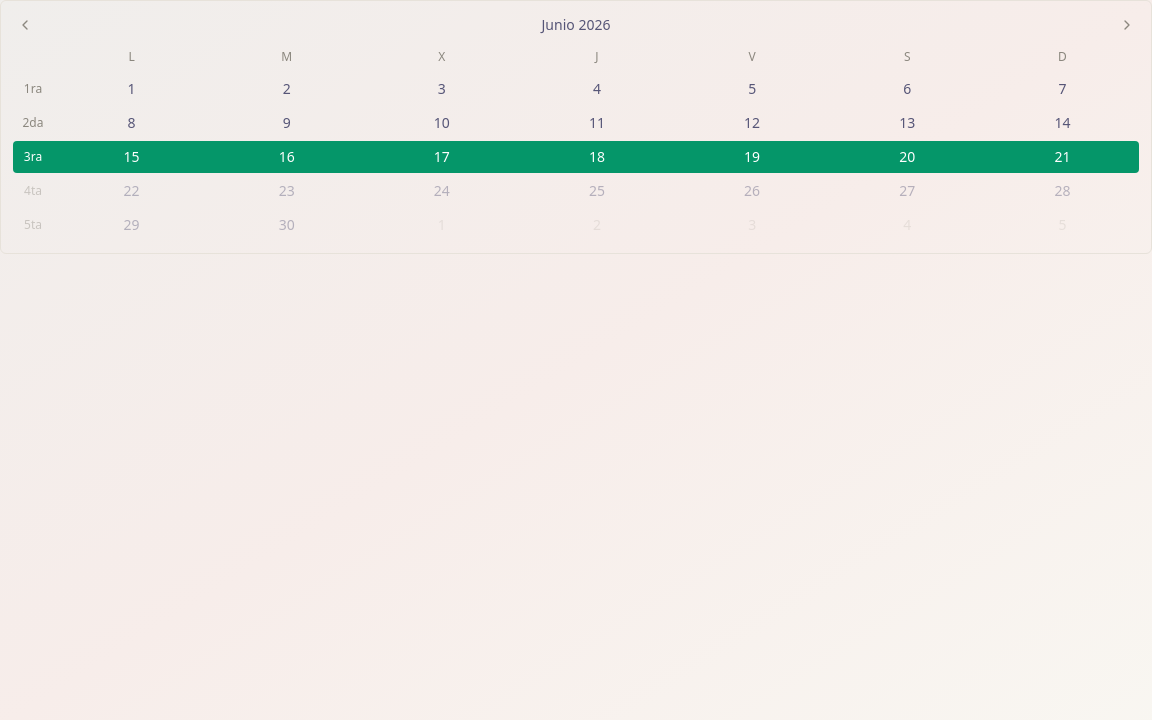
Test: WeekCalendar › prev/next shift by year while in the months view
Click the button with test id "week-calendar-view-label".
click(576, 25)  # box top-left (37, 13), bottom-right (1115, 37)
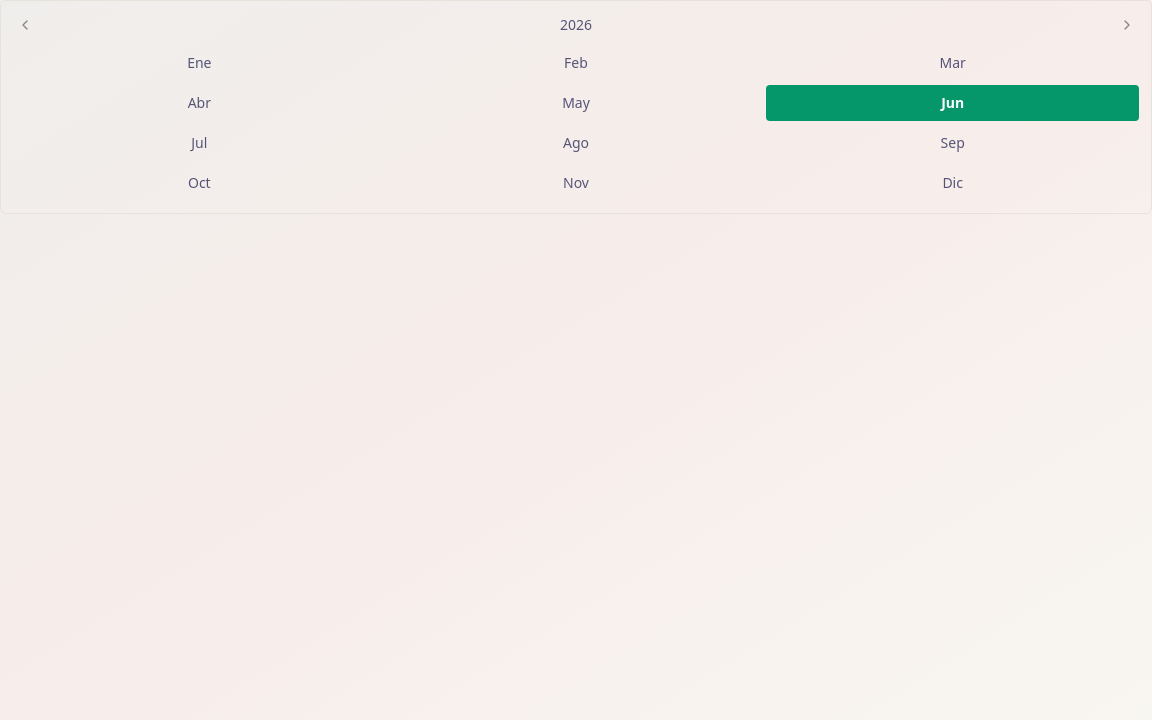
Result: the button with test id "week-calendar-view-label" reads "2026" at top-left (37, 13), bottom-right (1115, 37)
Click the button with test id "week-calendar-next".
click(1127, 25)  # box top-left (1115, 13), bottom-right (1139, 37)
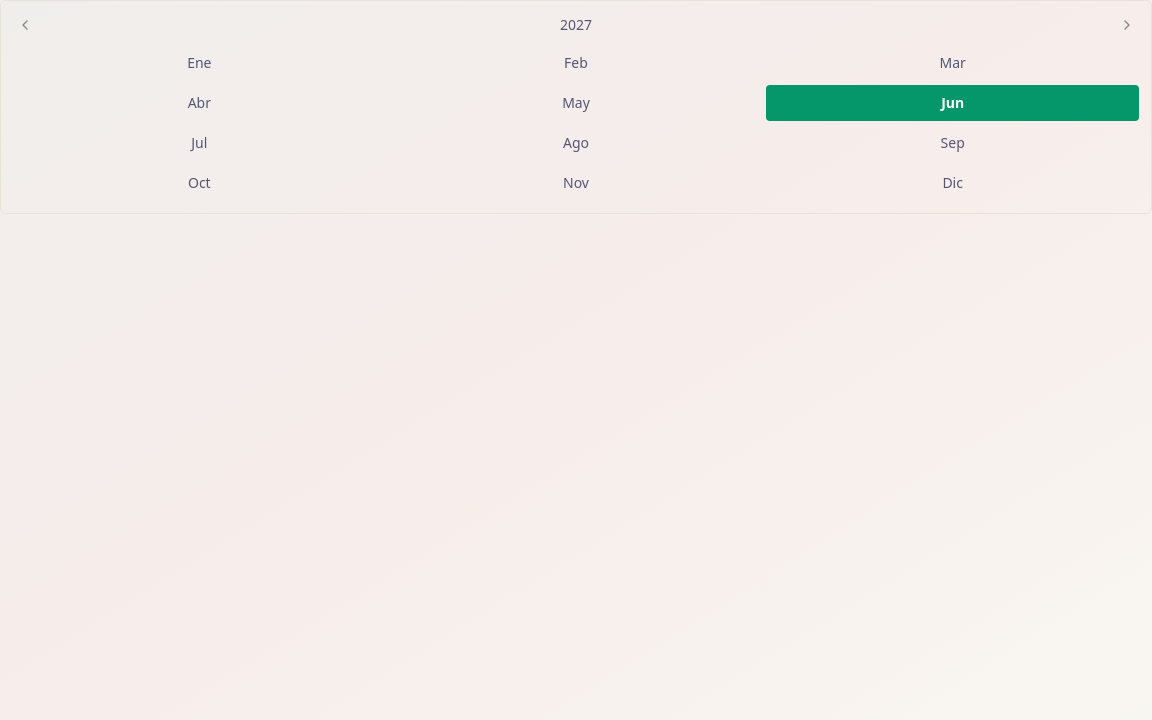
Result: the button with test id "week-calendar-view-label" reads "2027" at top-left (37, 13), bottom-right (1115, 37)
Click the button with test id "week-calendar-prev".
click(25, 25)  # box top-left (13, 13), bottom-right (37, 37)
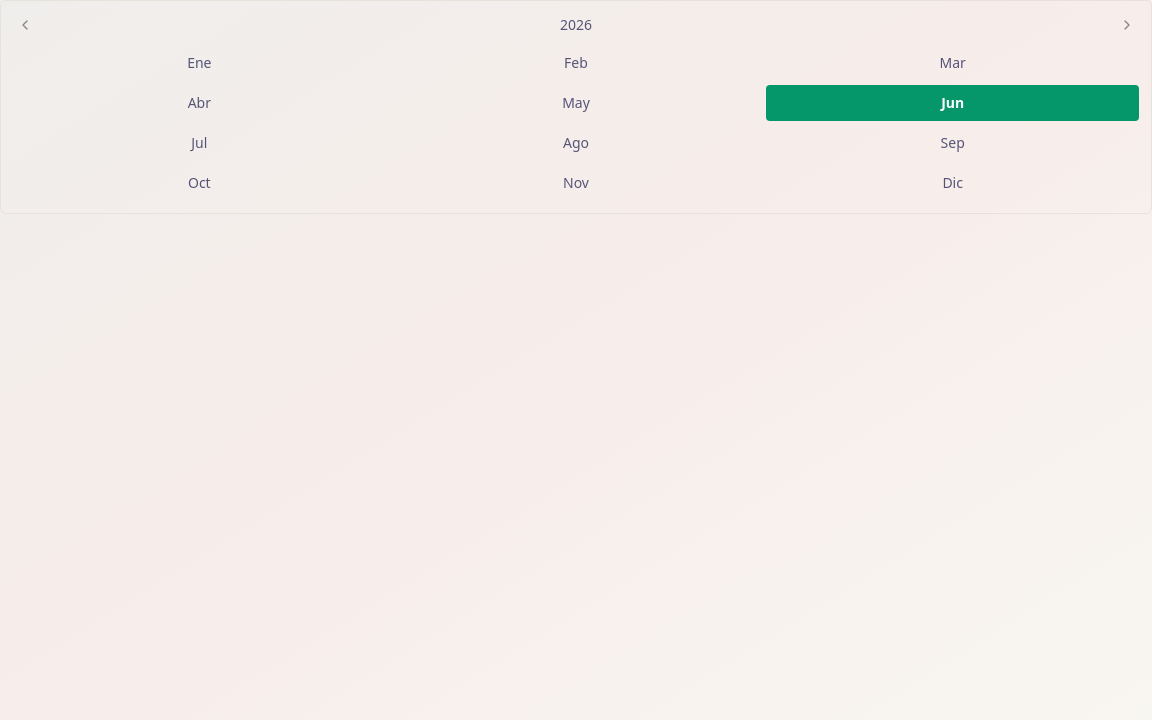
Click the button with test id "week-calendar-prev".
click(25, 25)  # box top-left (13, 13), bottom-right (37, 37)
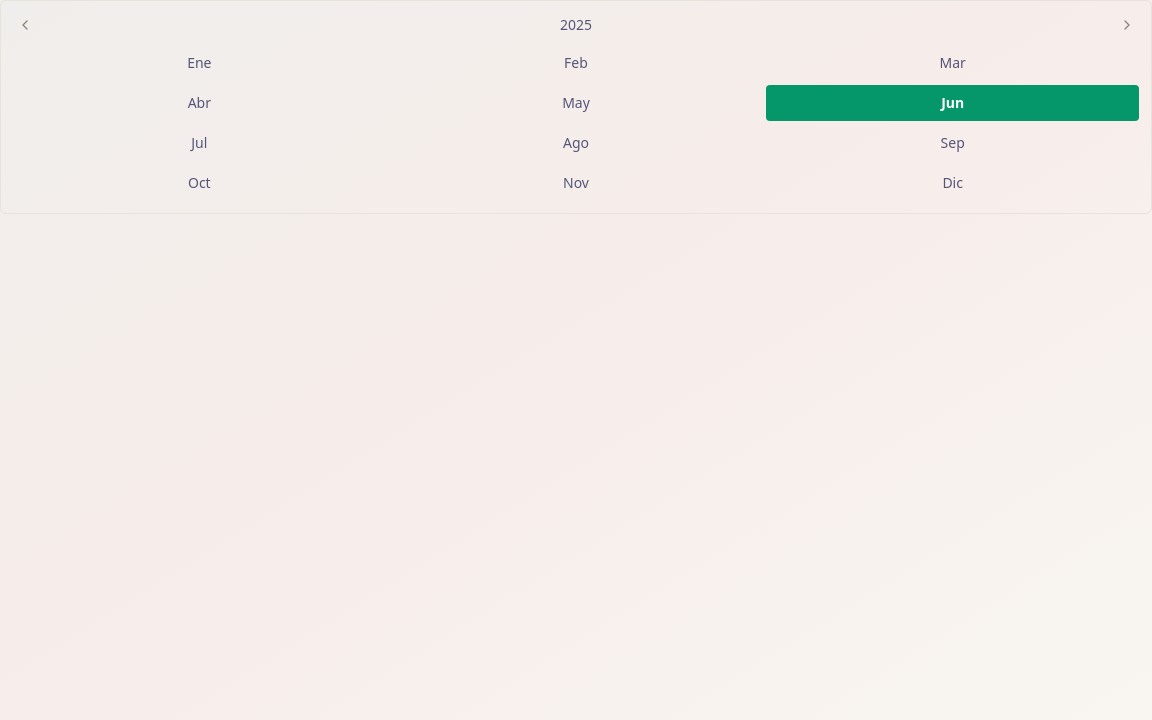
Result: the button with test id "week-calendar-view-label" reads "2025" at top-left (37, 13), bottom-right (1115, 37)
